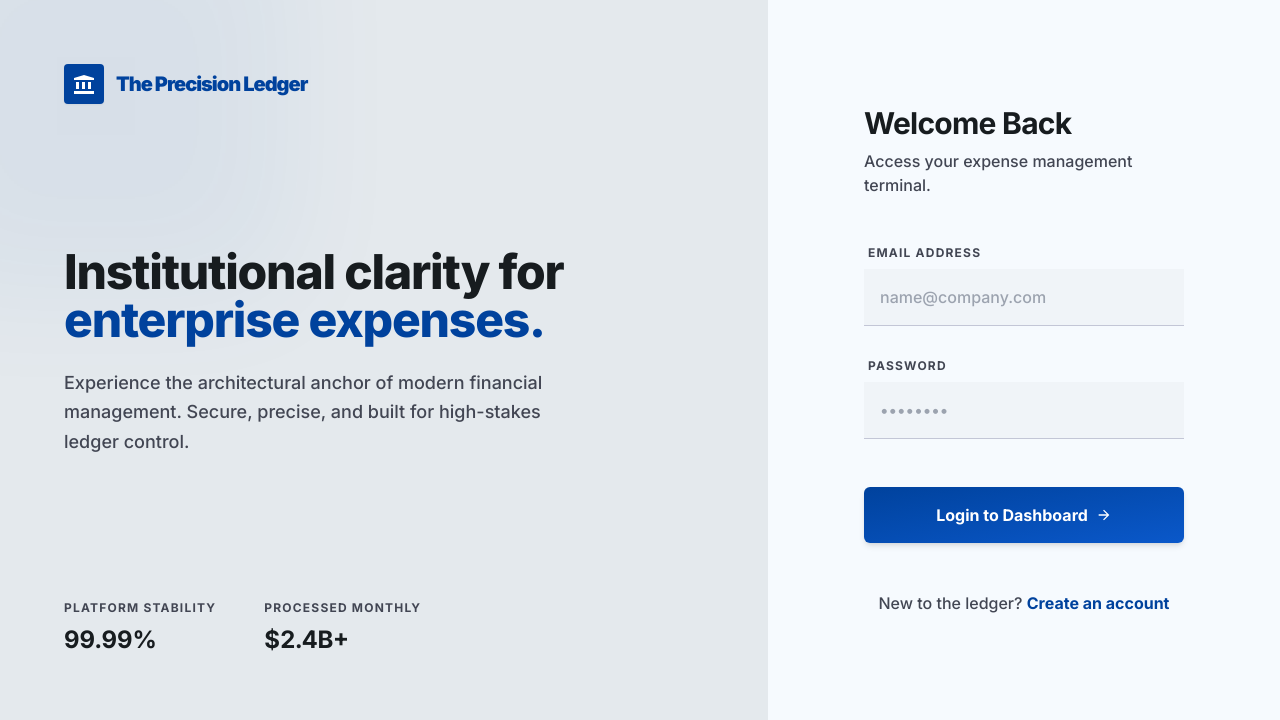
LoginPage › shows error message when login fails
This screenshot has width=1280, height=720.
Step 1. Type "bad@example.com" into the field labelled "Email Address" → (1024, 298), box 864,269 -> 1184,326
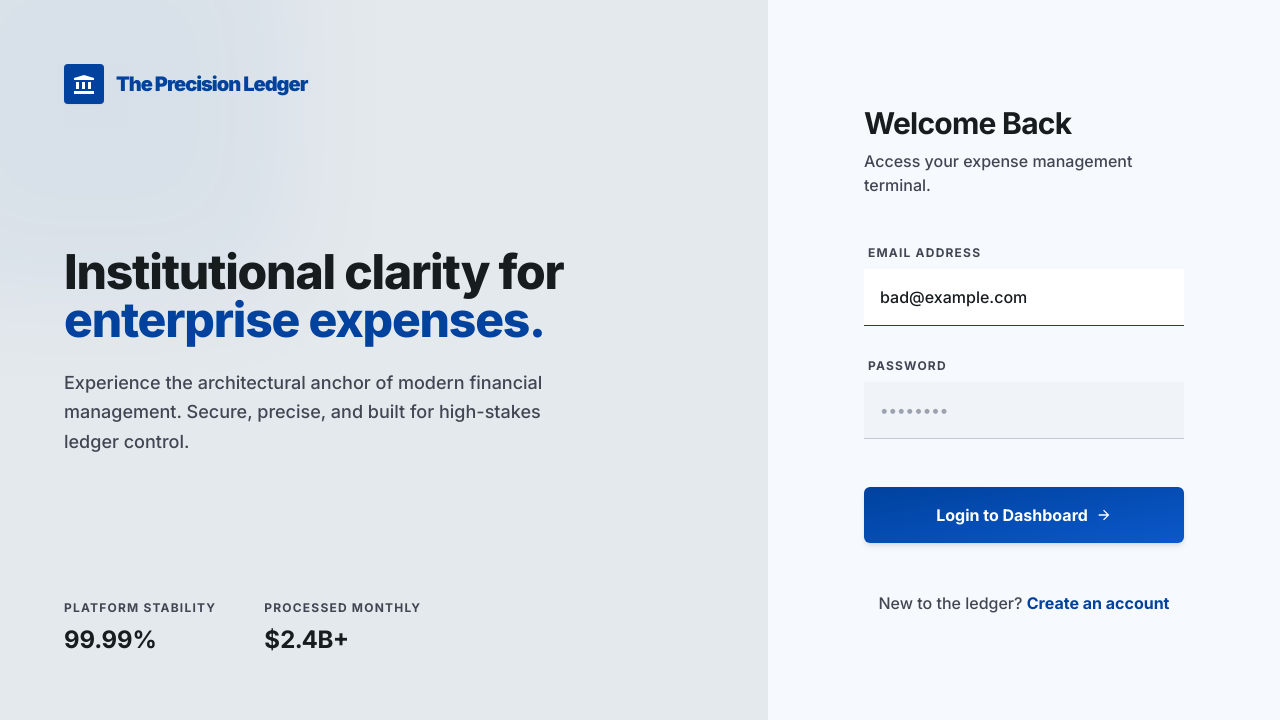
Step 2. Type "wrongpass" into the password field labelled "Password" → (1024, 410), box 864,382 -> 1184,439
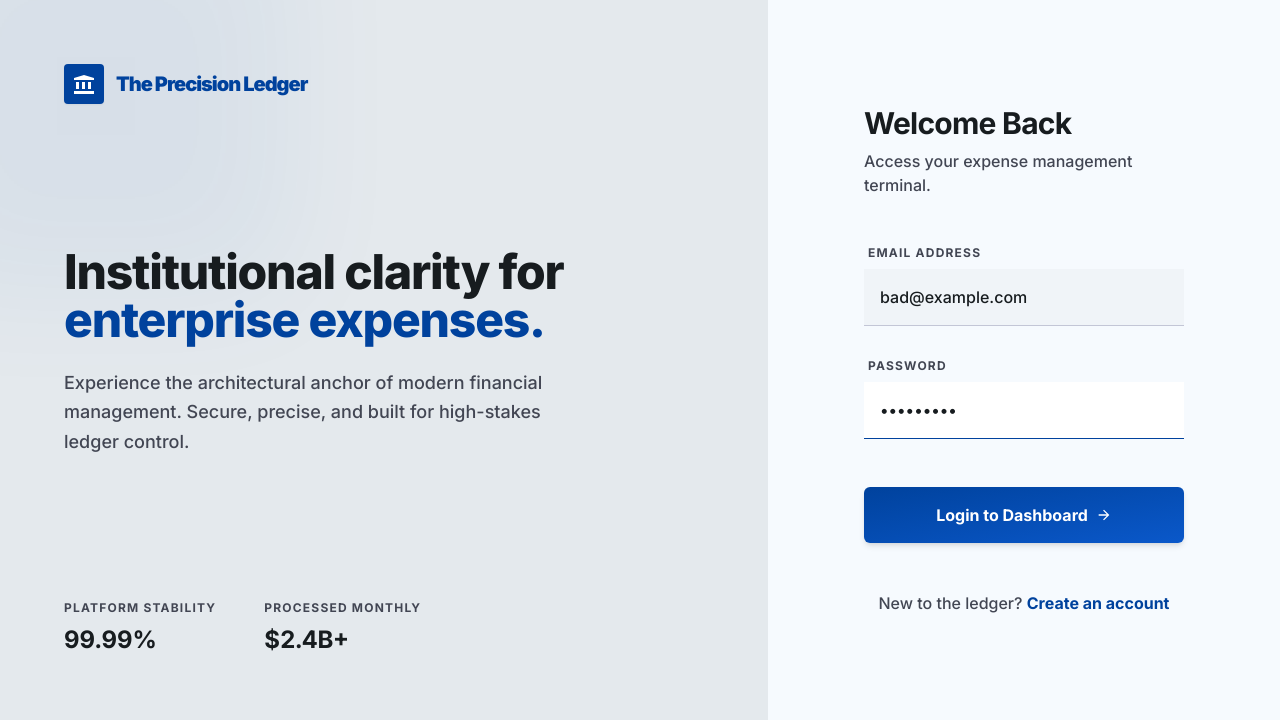
Step 3. Click the button "Login to Dashboard" → (1024, 515), box 864,487 -> 1184,543
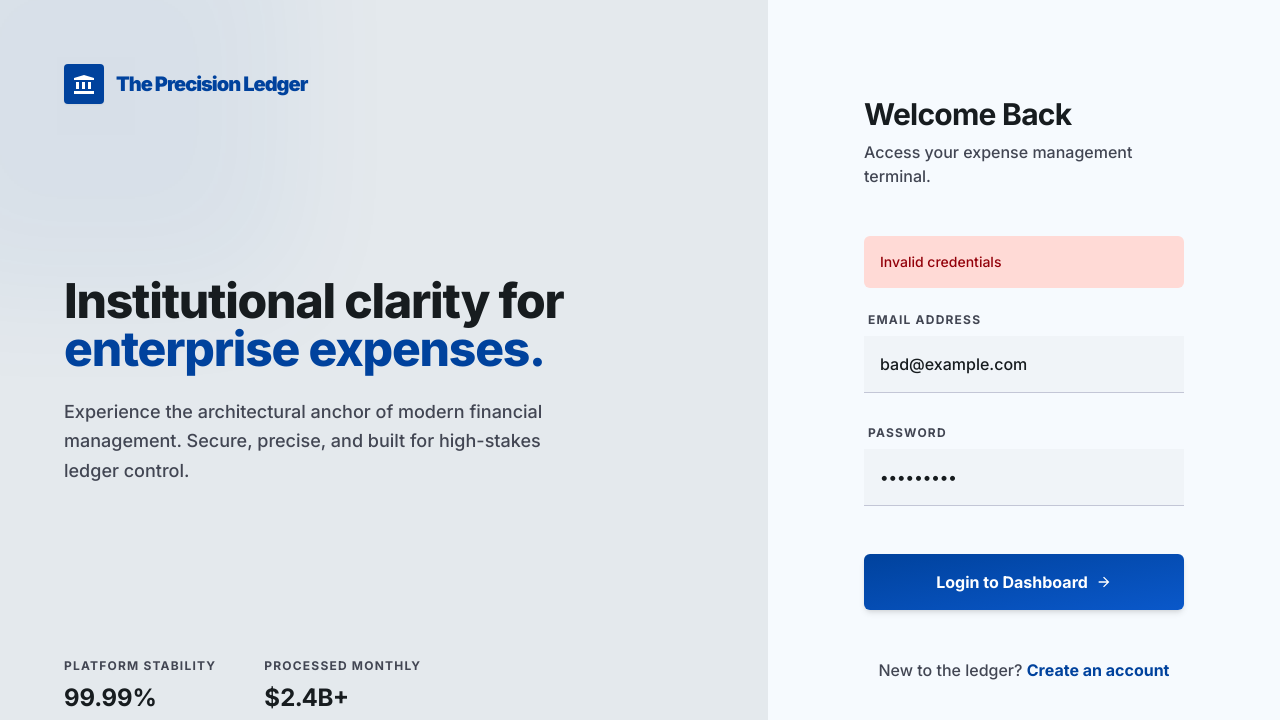
Expected: the text "Invalid credentials" is shown, 864,236 -> 1184,288
